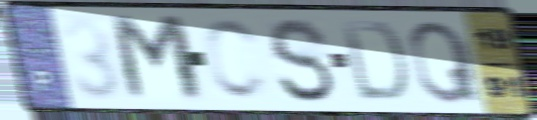3: (62, 14, 123, 103)
C: (200, 16, 273, 104)
D: (337, 18, 410, 105)
M: (105, 12, 210, 106)
Q: (406, 18, 484, 107)
S: (264, 15, 339, 106)
